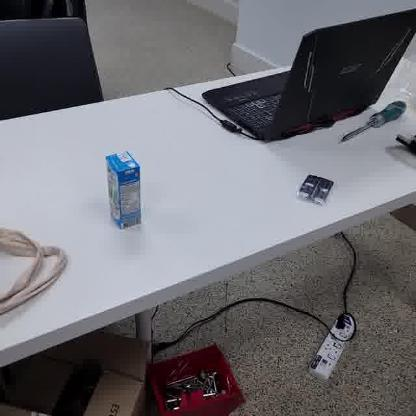Others: (100, 146, 146, 236)
